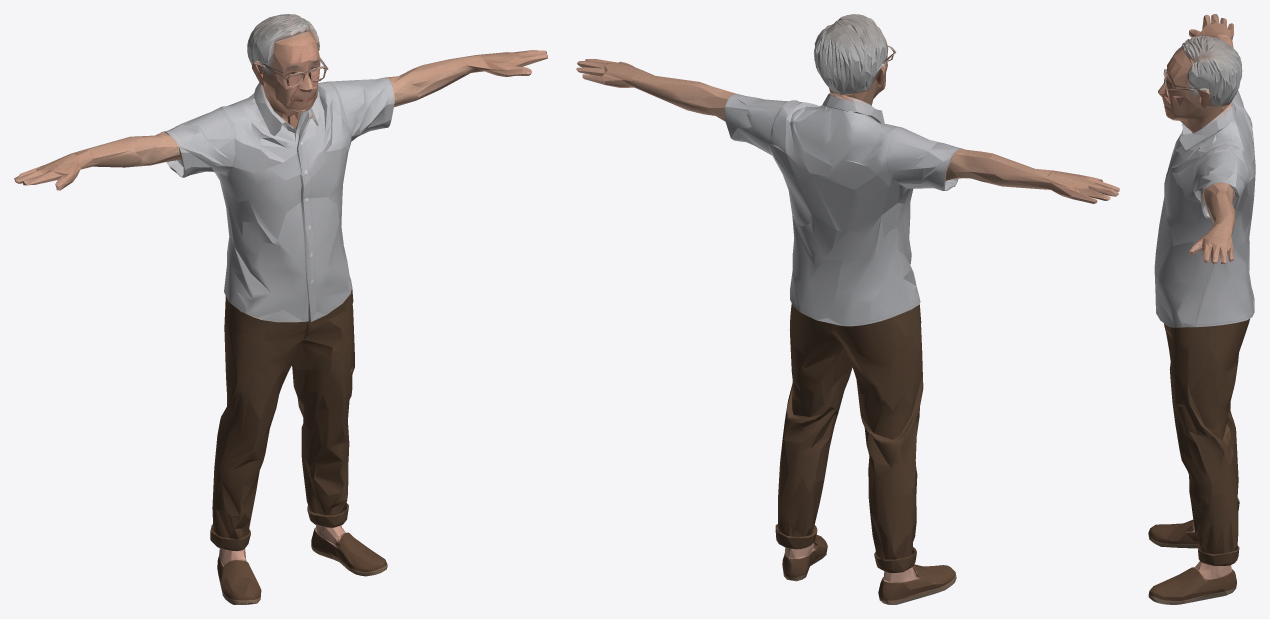
Rendered from image3d.glb.
The picture shows the model from 3 angles, left to right: view 1: azimuth 30°, elevation 25°; view 2: azimuth 150°, elevation 25°; view 3: azimuth 270°, elevation 25°; orthographic projection. The views are drawn at different scales.
Bounding box in the file's own units: 1.9 × 1.9 × 0.3482.
1 material, 1 textured.
